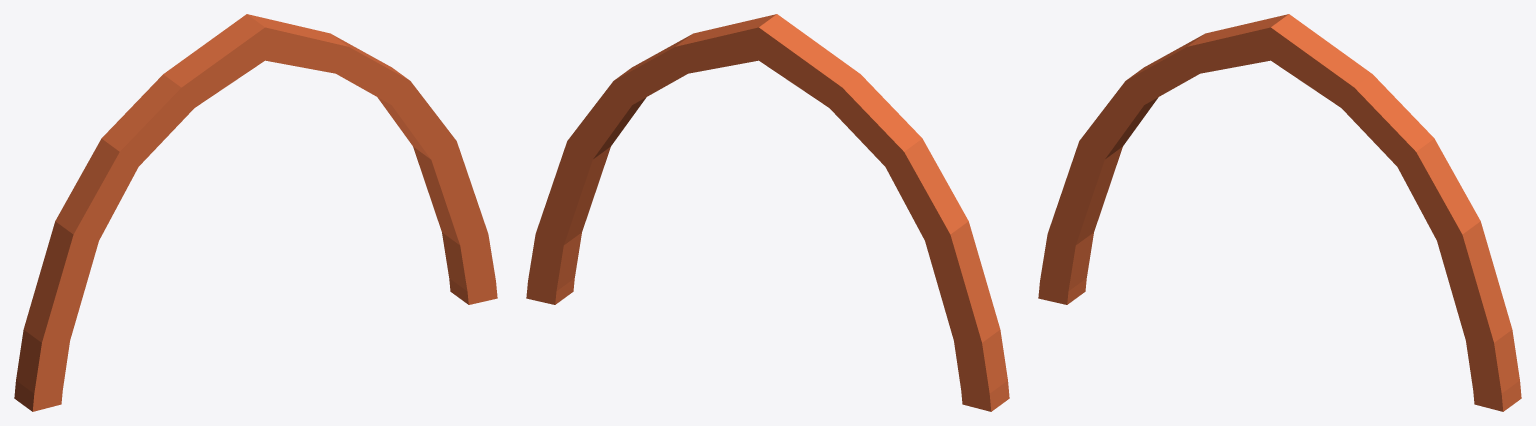
The model's file is Vikings_planks2.fbx.
3 views of the same model, side by side, from view 1: azimuth 30°, elevation 25°; view 2: azimuth 150°, elevation 25°; view 3: azimuth 330°, elevation 25° (orthographic).
Visible parts, largest first — view 1: Cube; view 2: Cube; view 3: Cube.
Part boxes in pixels (x1,y1,x2,y2): Cube: (14,14,497,411); Cube: (526,14,1009,411); Cube: (1038,14,1521,411).
Bounding box in the file's own units: 657 × 443 × 44.91.
